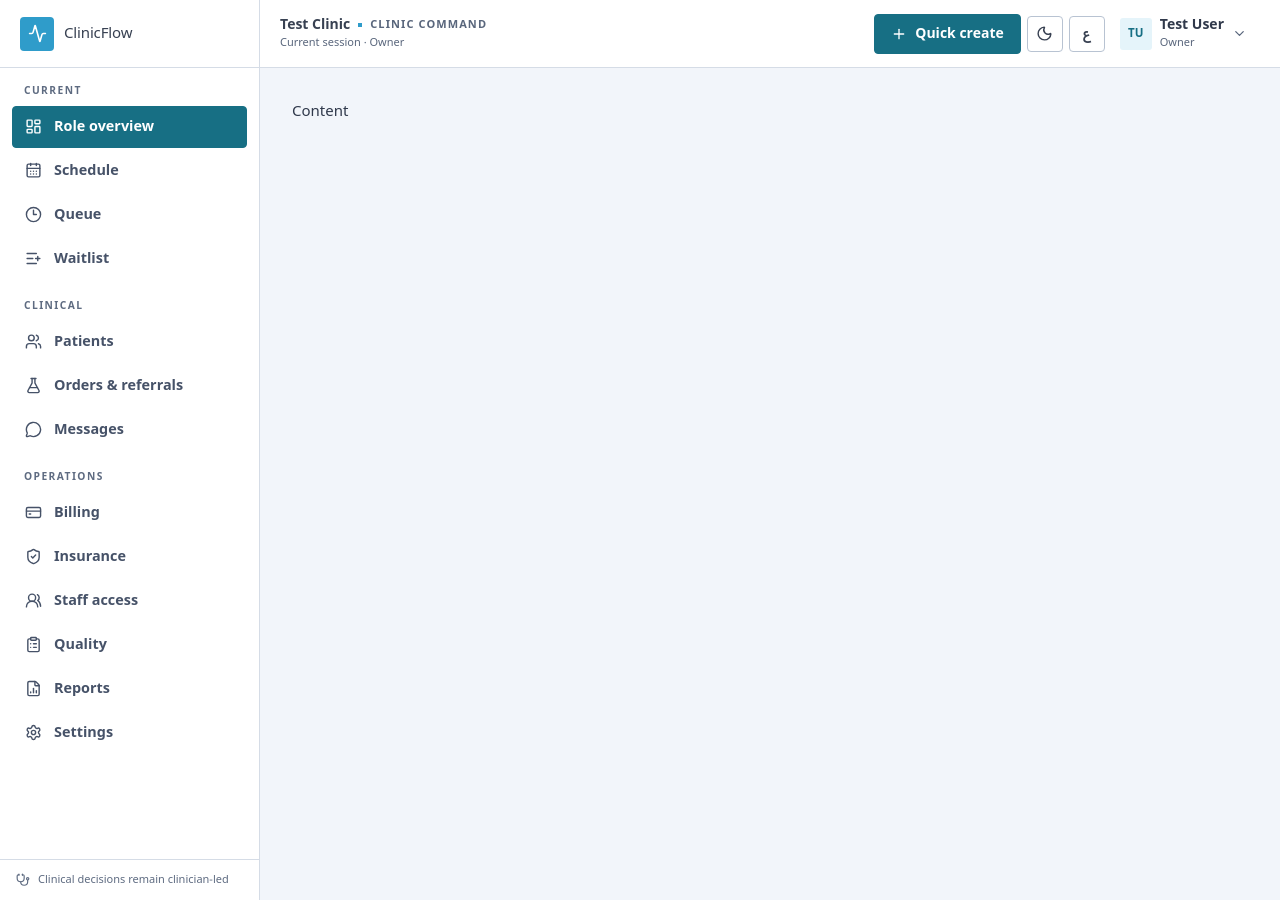
Test case: AppShell permissions › shows a placeholder when no Quick create actions are configured
The width and height of the screenshot is (1280, 900).
What coordinates should you click on to do the following:
click the button "Quick create"
I would click on:
 (948, 34)
Its box is [874,14,1021,54].
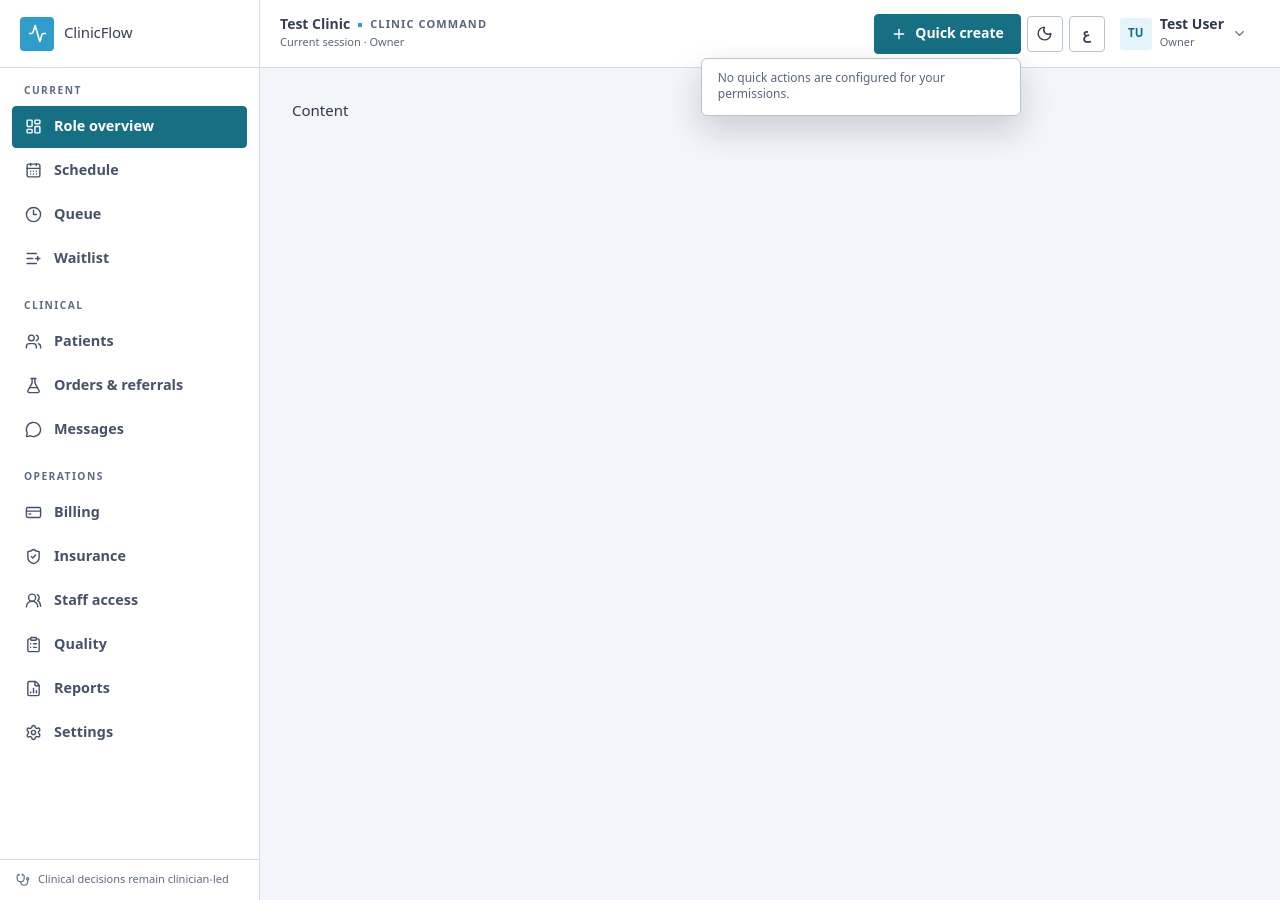
expect the menu named "Quick create" shows "No quick actions": met, box [718,66,945,106]
